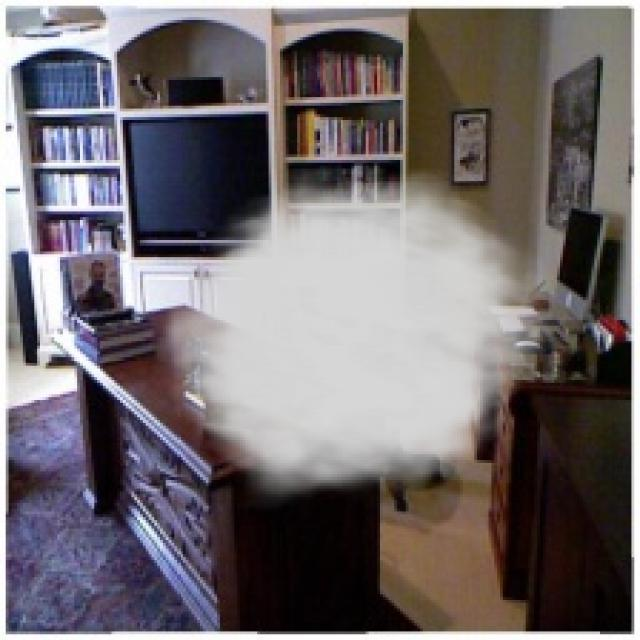smoke: (143, 168, 566, 512)
